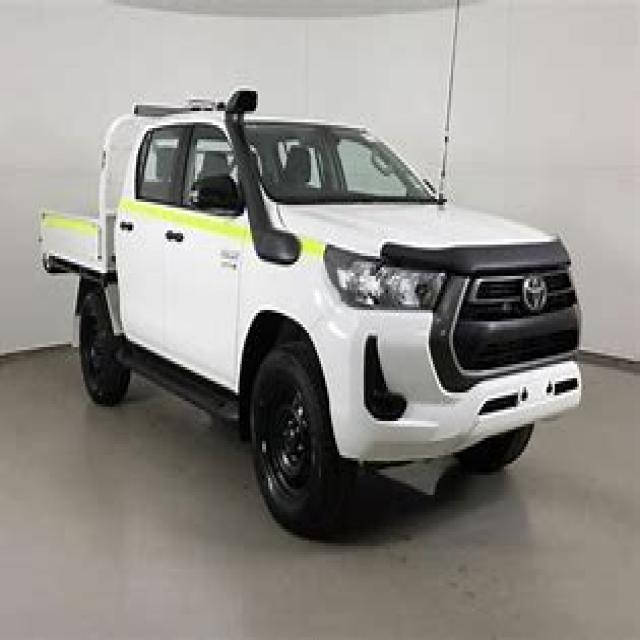light_vehicle: (35, 91, 591, 549)
